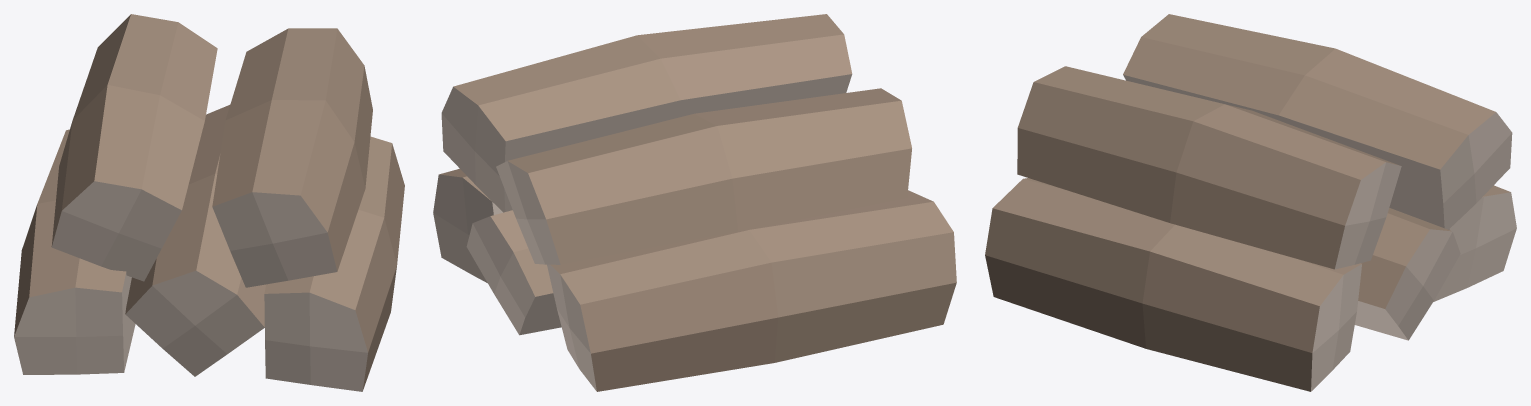
File: woodFirePile.fbx
The picture shows the model from 3 angles, left to right: view 1: azimuth 30°, elevation 25°; view 2: azimuth 150°, elevation 25°; view 3: azimuth 270°, elevation 25°; orthographic projection. The views are drawn at different scales.
Visible parts, largest first — view 1: pCube7, pCube6, pCube4, pCube3, pCube5; view 2: pCube5, pCube6, pCube7, pCube3, pCube4; view 3: pCube4, pCube7, pCube6, pCube3, pCube5.
Boxes of the visible parts, <box> form: pCube7: <box>212,28,372,287</box>; pCube6: <box>51,14,217,281</box>; pCube4: <box>264,136,404,391</box>; pCube3: <box>125,105,265,376</box>; pCube5: <box>14,129,135,374</box>; pCube5: <box>547,190,956,391</box>; pCube6: <box>496,88,911,264</box>; pCube7: <box>441,14,852,212</box>; pCube3: <box>466,210,561,335</box>; pCube4: <box>433,168,502,282</box>; pCube4: <box>985,178,1361,391</box>; pCube7: <box>1017,66,1401,269</box>; pCube6: <box>1123,14,1512,229</box>; pCube3: <box>1355,208,1460,340</box>; pCube5: <box>1433,185,1516,301</box>.
Size of the model in its own units: 5.59 by 2.55 by 5.68.
